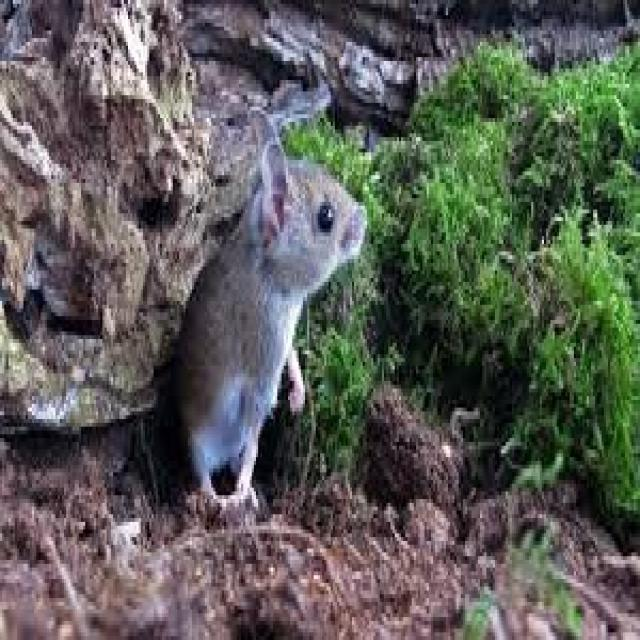Mouse: (164, 150, 370, 491)
